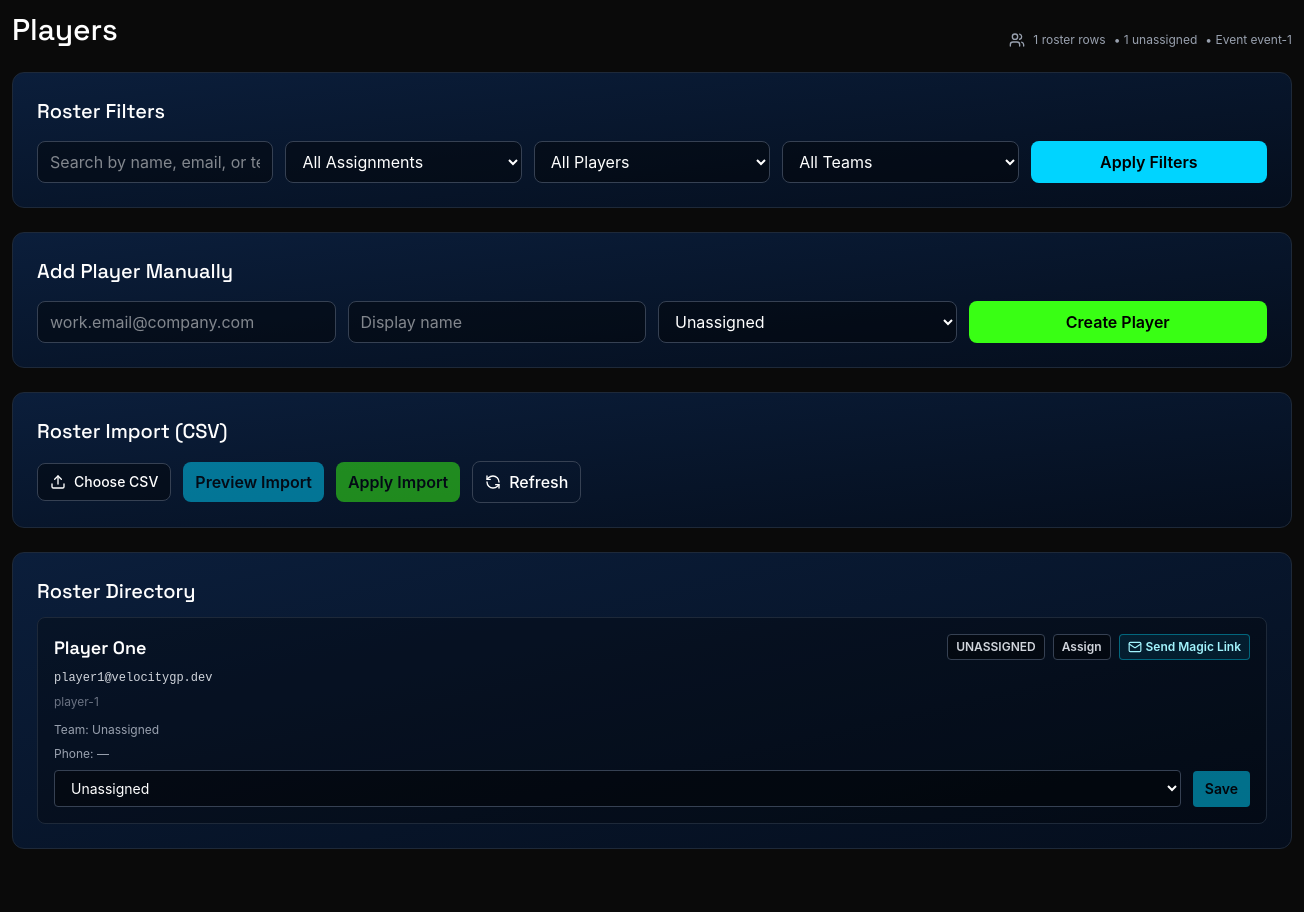
AdminPlayers roster workflows › assigns and revokes Helios role from roster rows
Expected: the button "Player One" is shown, [54, 634, 146, 662]
Click the button "Assign". click: point(1082, 647)
box: [1053, 634, 1110, 660]
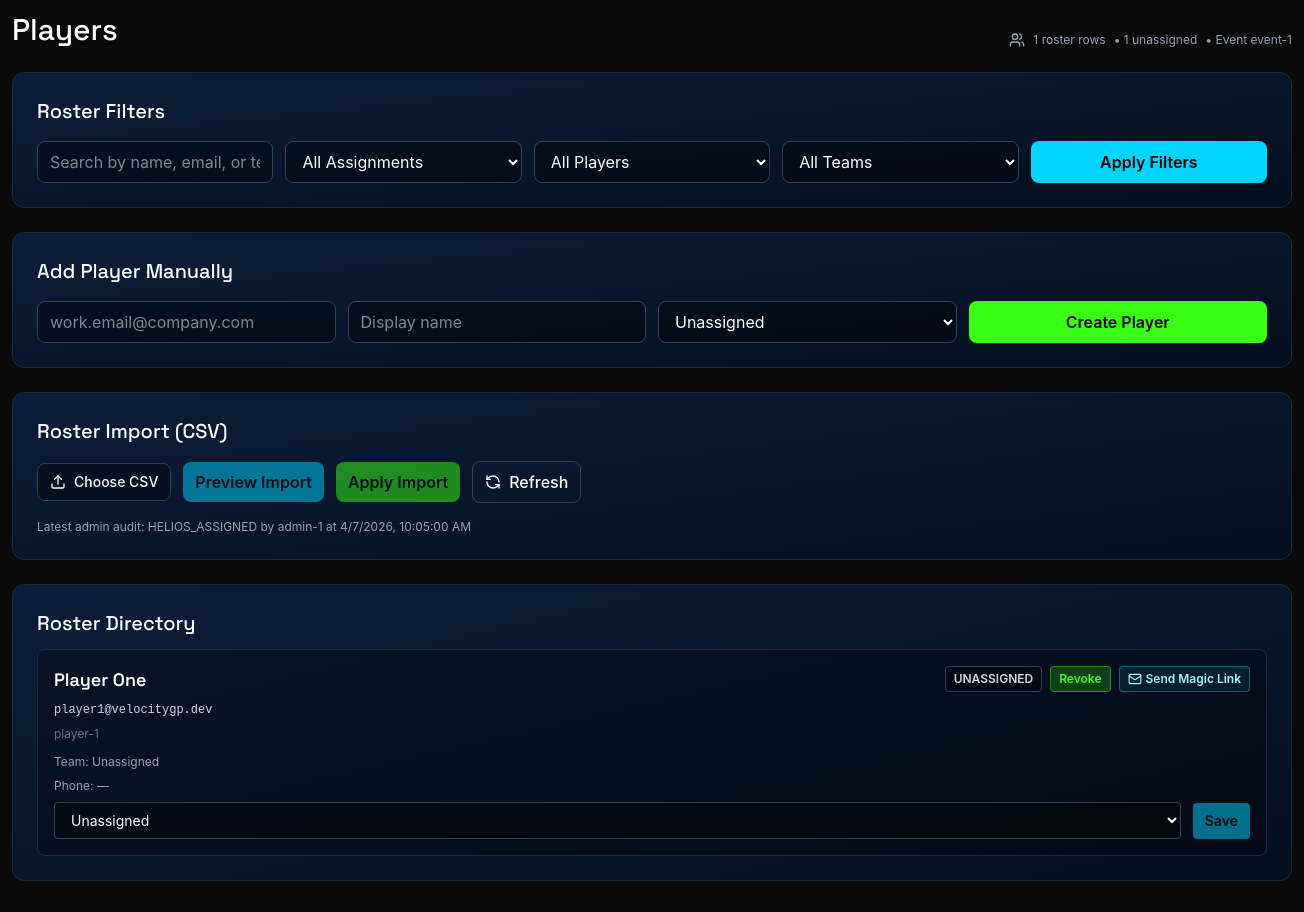
Expected: the button "Revoke" is shown, [1050, 666, 1110, 692]
